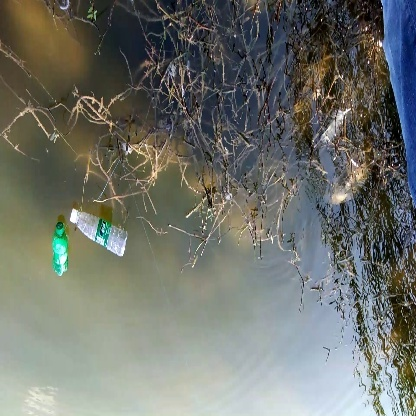bottle: (71, 205, 130, 260), (49, 220, 73, 276)
